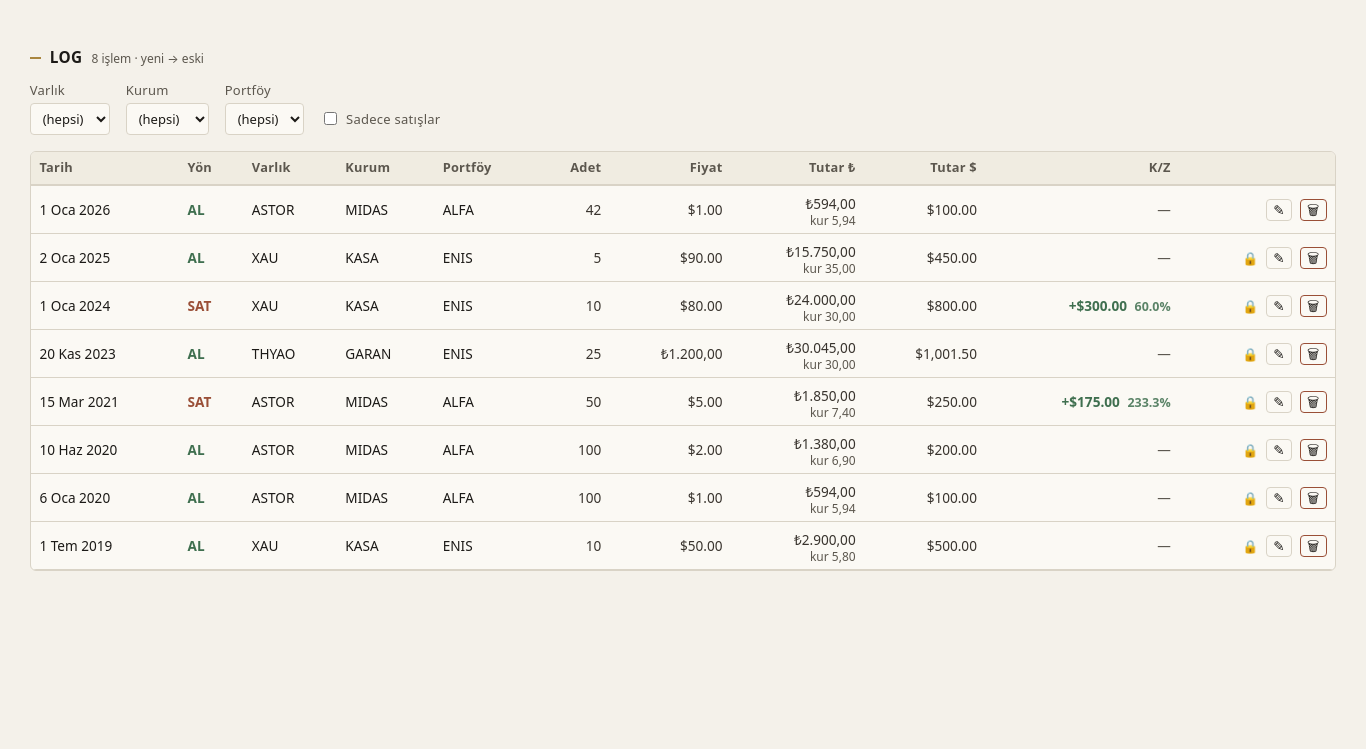
Test: Log › clicking the edit icon opens the İşlem form pre-filled
manual row is dated 2026-01-01 → newest → first edit button
Step 1. Click the button named "Düzenle" → (1279, 210), box [1266, 199, 1292, 221]
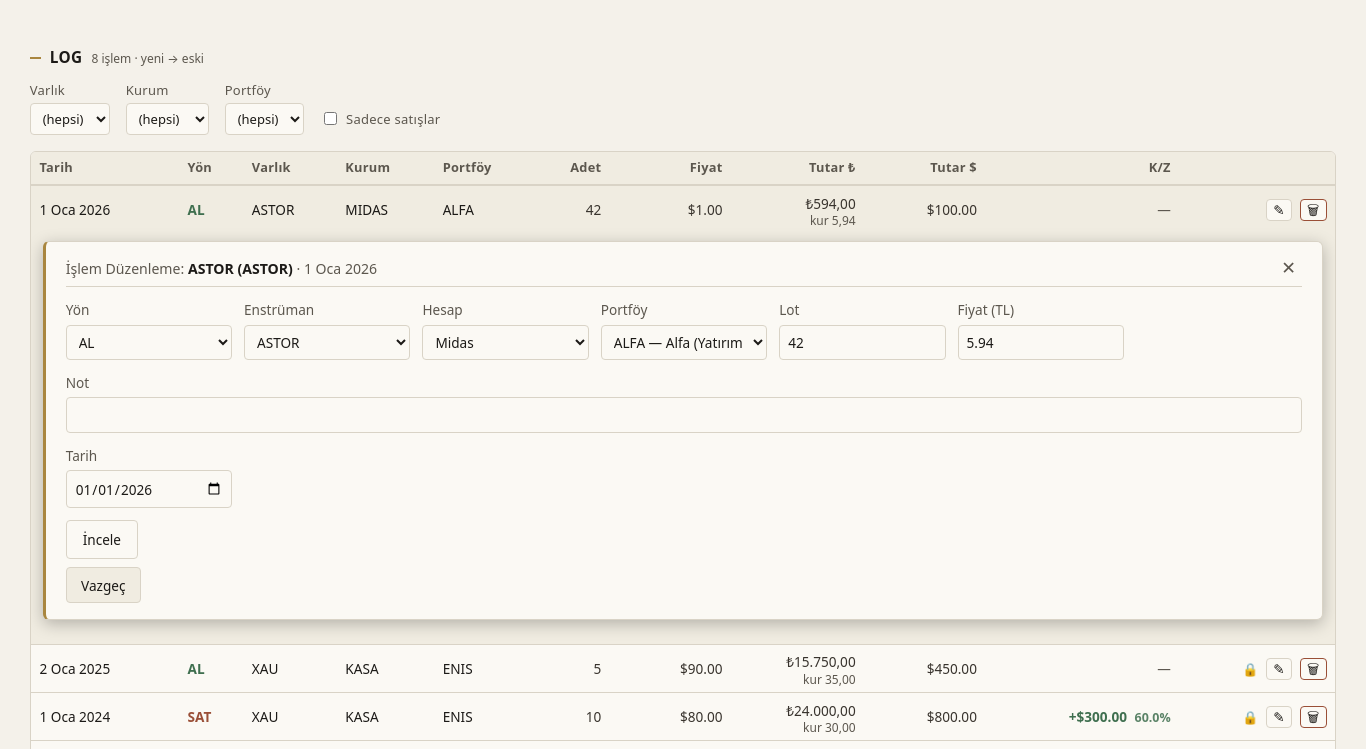
Expected: the number field labelled "Lot" holds "42", [779, 324, 946, 360]
